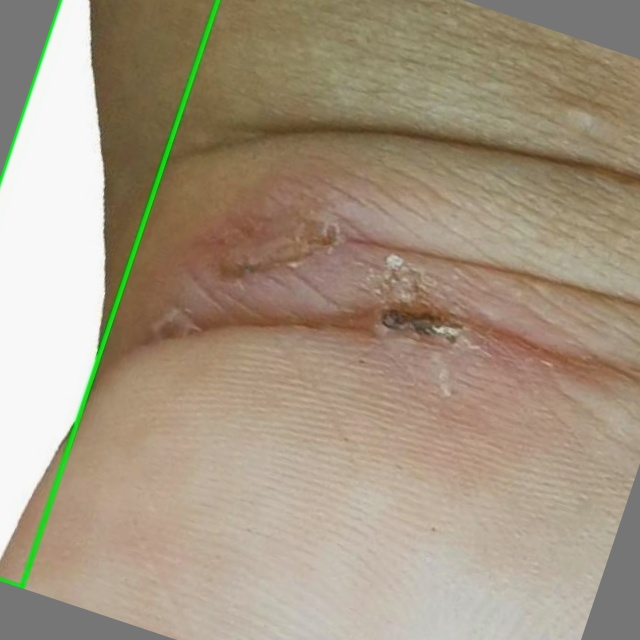Scabies: (0, 0, 218, 587)
